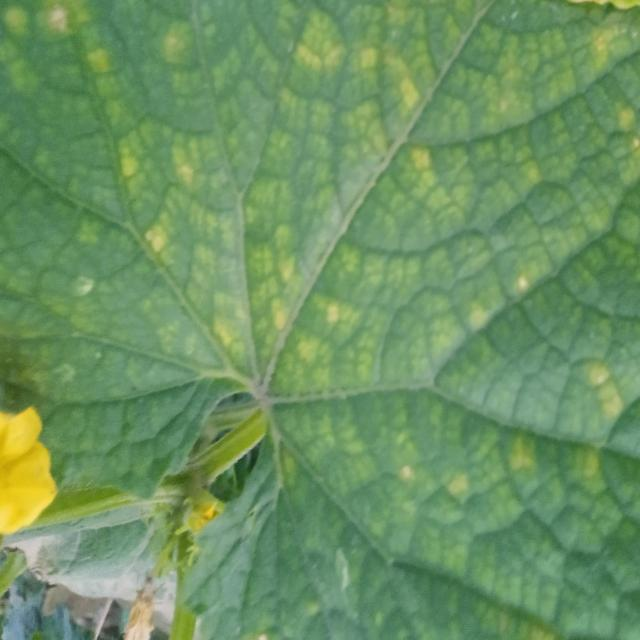cucumber_downy: (46, 30, 619, 621)
